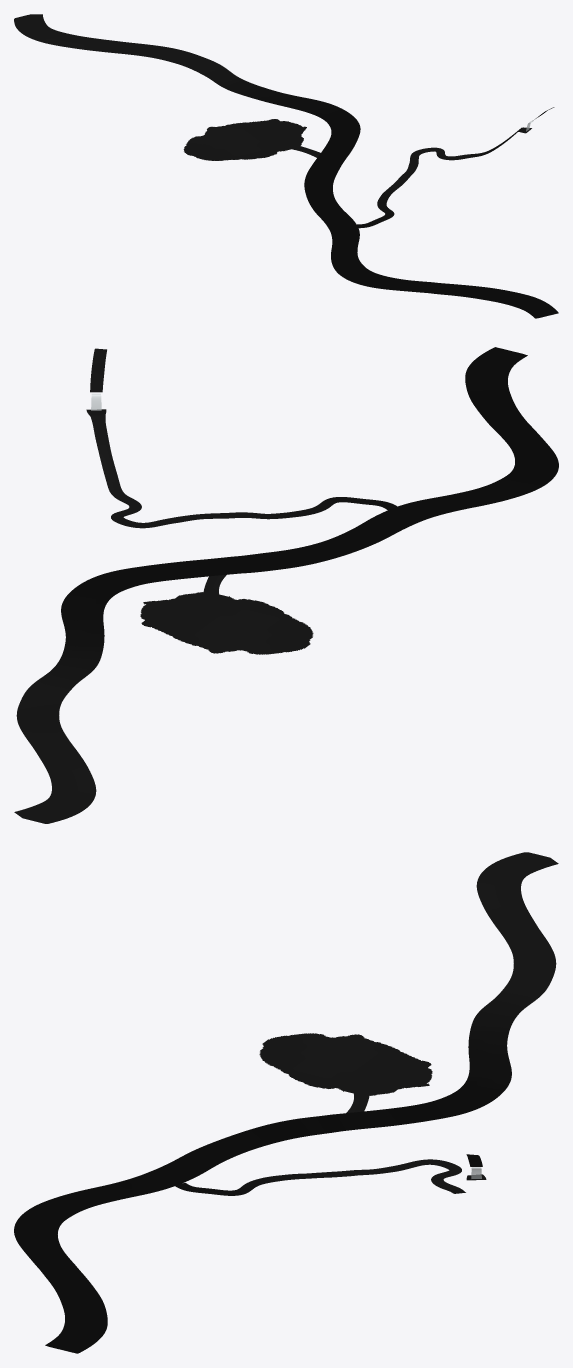
The model's file is water_meshes.glb.
The picture shows the model from 3 angles, top to bottom: view 1: azimuth 30°, elevation 25°; view 2: azimuth 150°, elevation 25°; view 3: azimuth 330°, elevation 25°; orthographic projection. The views are drawn at different scales.
Parts seen in each view (by area): view 1: River_Water, Lake_Water, Stream_Lower_Water; view 2: River_Water, Lake_Water, Stream_Lower_Water, Stream_Upper_Water; view 3: River_Water, Lake_Water, Stream_Lower_Water.
Part boxes in pixels (<box>): River_Water: <box>14,14,558,318</box>; Lake_Water: <box>183,119,306,160</box>; Stream_Lower_Water: <box>357,127,531,228</box>; River_Water: <box>14,347,558,823</box>; Lake_Water: <box>140,592,313,654</box>; Stream_Lower_Water: <box>86,409,397,528</box>; Stream_Upper_Water: <box>90,348,106,392</box>; River_Water: <box>14,852,558,1353</box>; Lake_Water: <box>259,1033,432,1095</box>; Stream_Lower_Water: <box>175,1159,486,1195</box>.
Bounding box in the file's own units: 178 × 44.32 × 500.
Materials: 2 (1 with a texture image).
